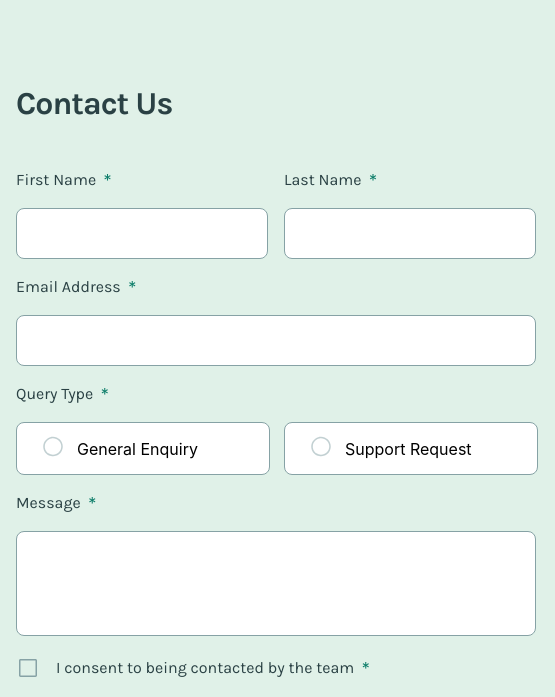
Scenario: ContactUsComponent › submits form data and displays success notification
This screenshot has width=555, height=697.
In the field with test id "firstName-input": (142, 234) [16,208,268,259], type "Artem"
In the field with test id "lastName-input": (410, 234) [284,208,536,259], type "Tyshchuk"
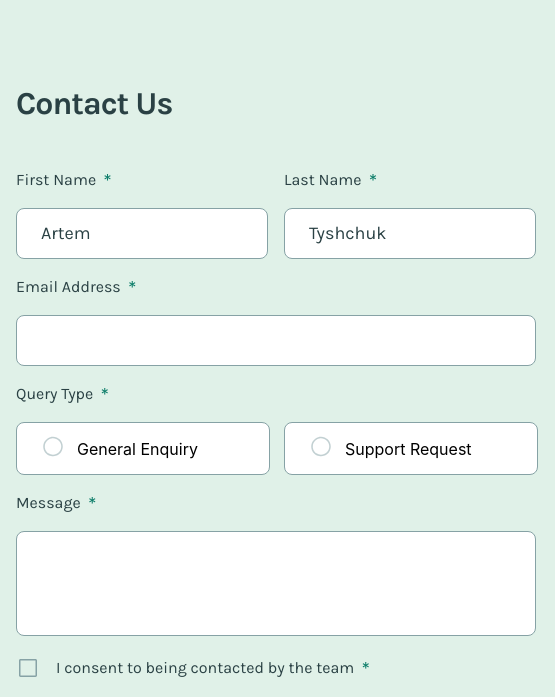
In the field with test id "email-input": (276, 340) [16,315,536,366], type "XQpJQ@example.com"
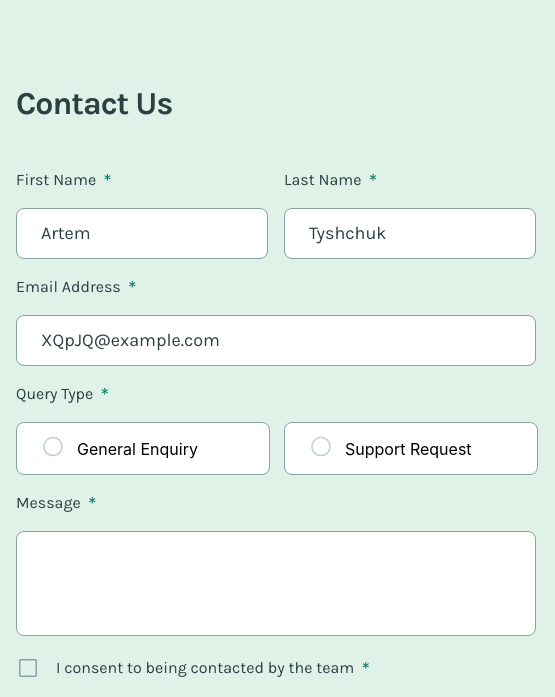
In the text box with test id "message-input": (276, 584) [16,531,536,636], type "Test message"
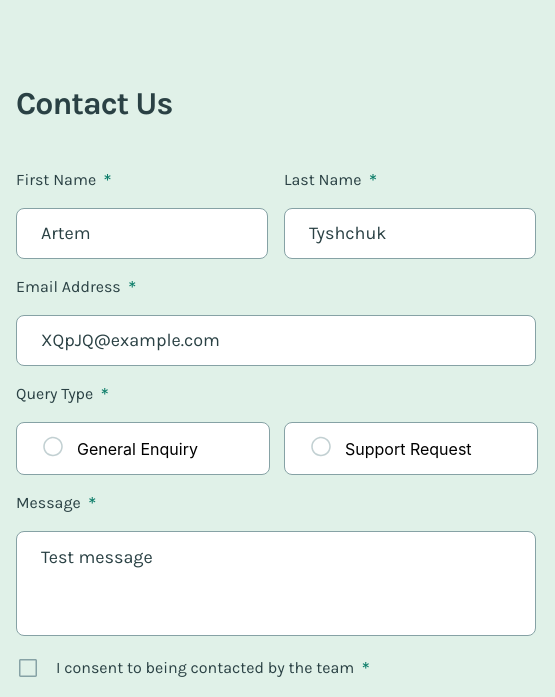
Click the text "General Enquiry": (137, 448) [77,438,198,458]
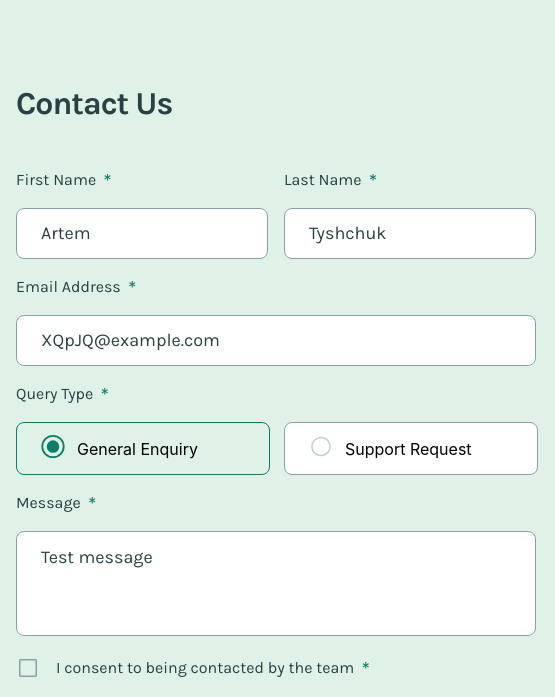
Click the checkbox with test id "consent-checkbox": (193, 668) [16,656,370,680]
(page scrolled)
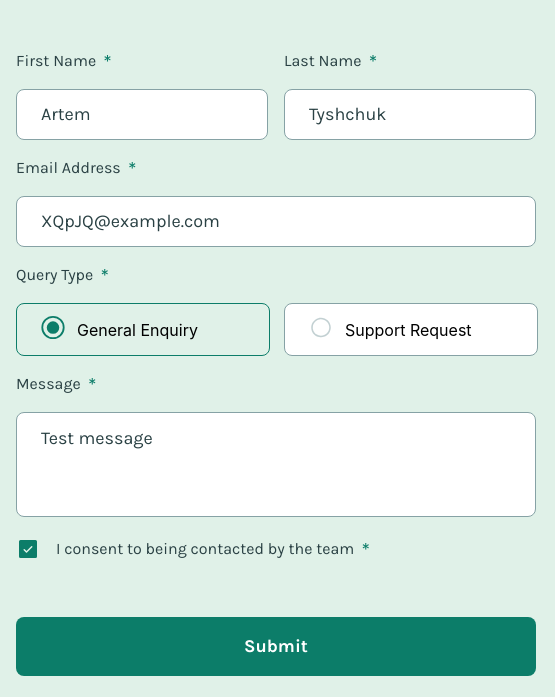
Click the button "Submit": (276, 646) [16,617,536,676]
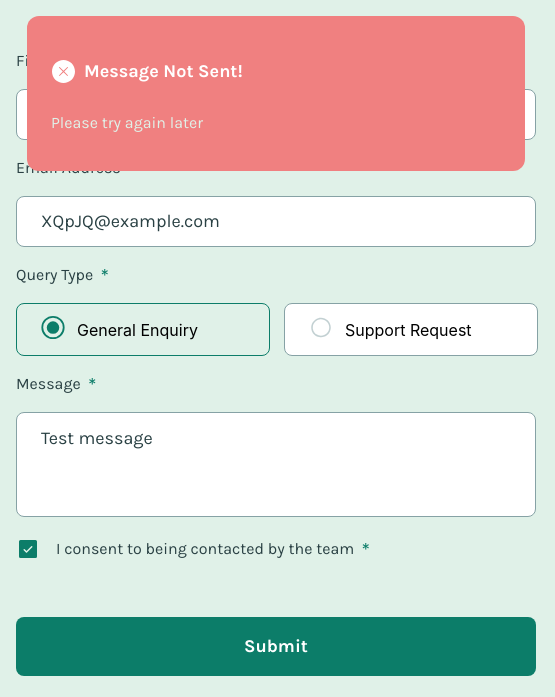
Check: the element with test id "notification-success" is shown, box [27,16,525,171]
